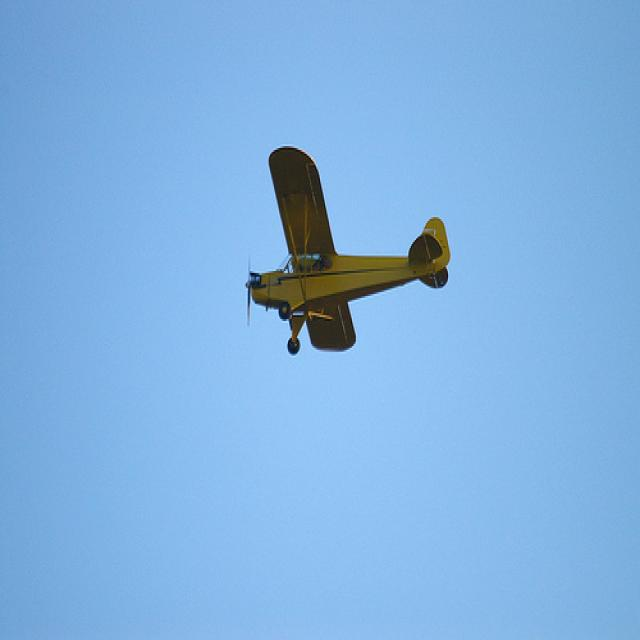aeroplane: (246, 141, 454, 357)
